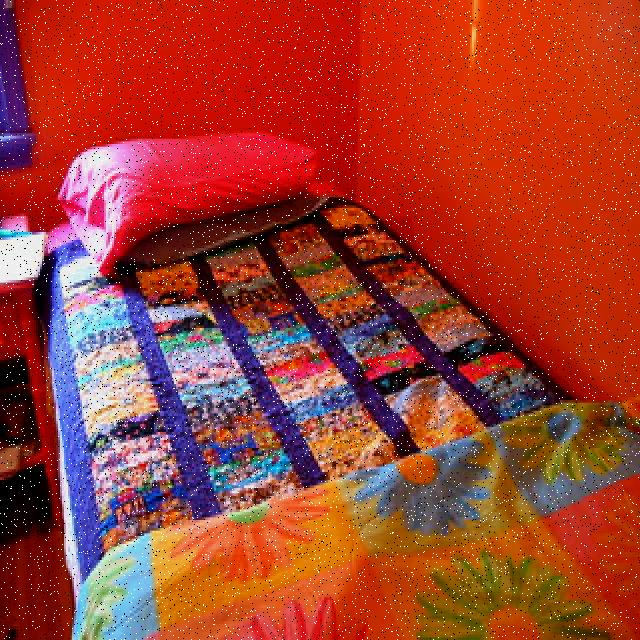bed: (35, 123, 640, 640)
